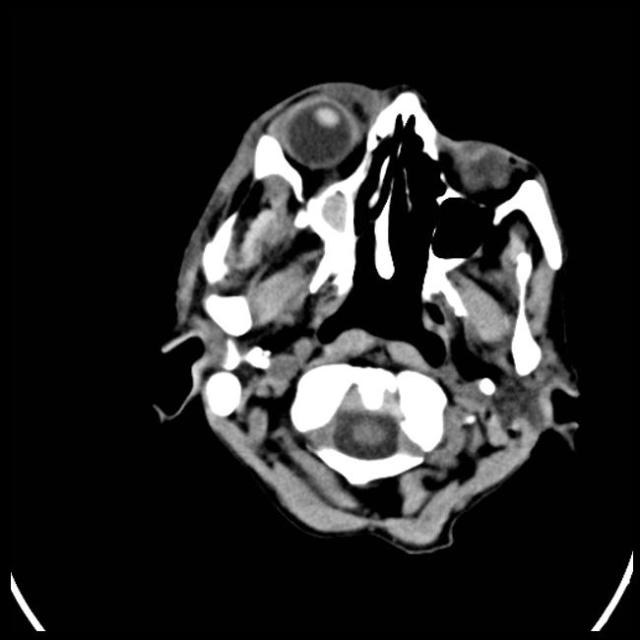lesion: (149, 77, 586, 557)
